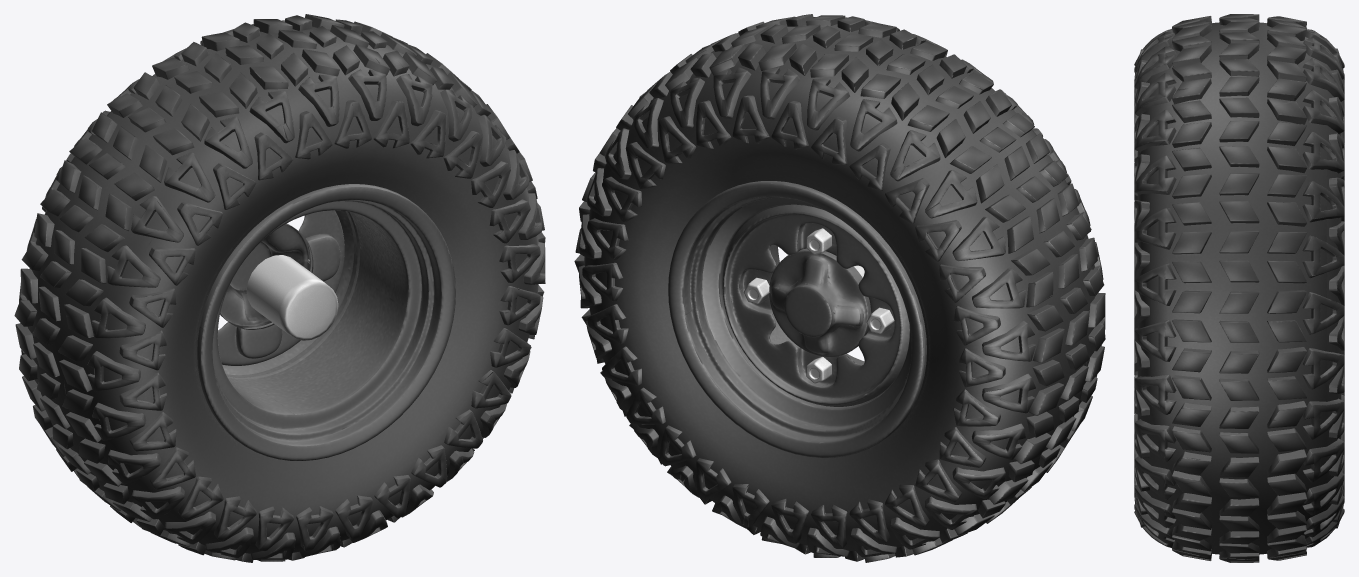
File: left_wheel_hq.dae
3 renders of one model, left to right at view 1: azimuth 30°, elevation 25°; view 2: azimuth 150°, elevation 25°; view 3: azimuth 270°, elevation 25°, orthographic.
Visible parts, largest first — view 1: protector_F_L_protector_F_LMesh, disk_F_L_disk_F_LMesh, details_wheel_F_L_details_wheel_F_LMesh; view 2: protector_F_L_protector_F_LMesh, disk_F_L_disk_F_LMesh, details_wheel_F_L_details_wheel_F_LMesh; view 3: protector_F_L_protector_F_LMesh.
Part boxes in pixels (<box>): protector_F_L_protector_F_LMesh: <box>14,14,545,562</box>; disk_F_L_disk_F_LMesh: <box>197,184,455,460</box>; details_wheel_F_L_details_wheel_F_LMesh: <box>246,255,338,340</box>; protector_F_L_protector_F_LMesh: <box>574,14,1105,562</box>; disk_F_L_disk_F_LMesh: <box>668,181,926,457</box>; details_wheel_F_L_details_wheel_F_LMesh: <box>743,228,894,383</box>; protector_F_L_protector_F_LMesh: <box>1134,14,1344,562</box>.
Size of the model in its own units: 0.6399 by 0.2455 by 0.6399.
3 materials, 3 textured.
